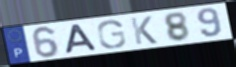6: (31, 25, 60, 59)
8: (163, 11, 192, 43)
9: (195, 7, 224, 40)
A: (64, 23, 99, 55)
G: (95, 19, 128, 50)
K: (129, 15, 159, 46)
